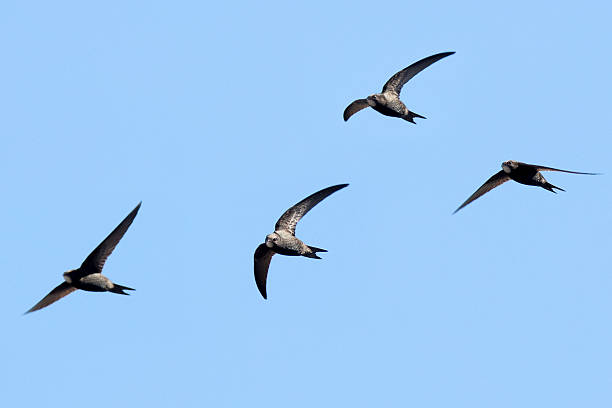Bird: (19, 197, 145, 315), (251, 179, 349, 300), (451, 158, 605, 220), (341, 46, 456, 124)
